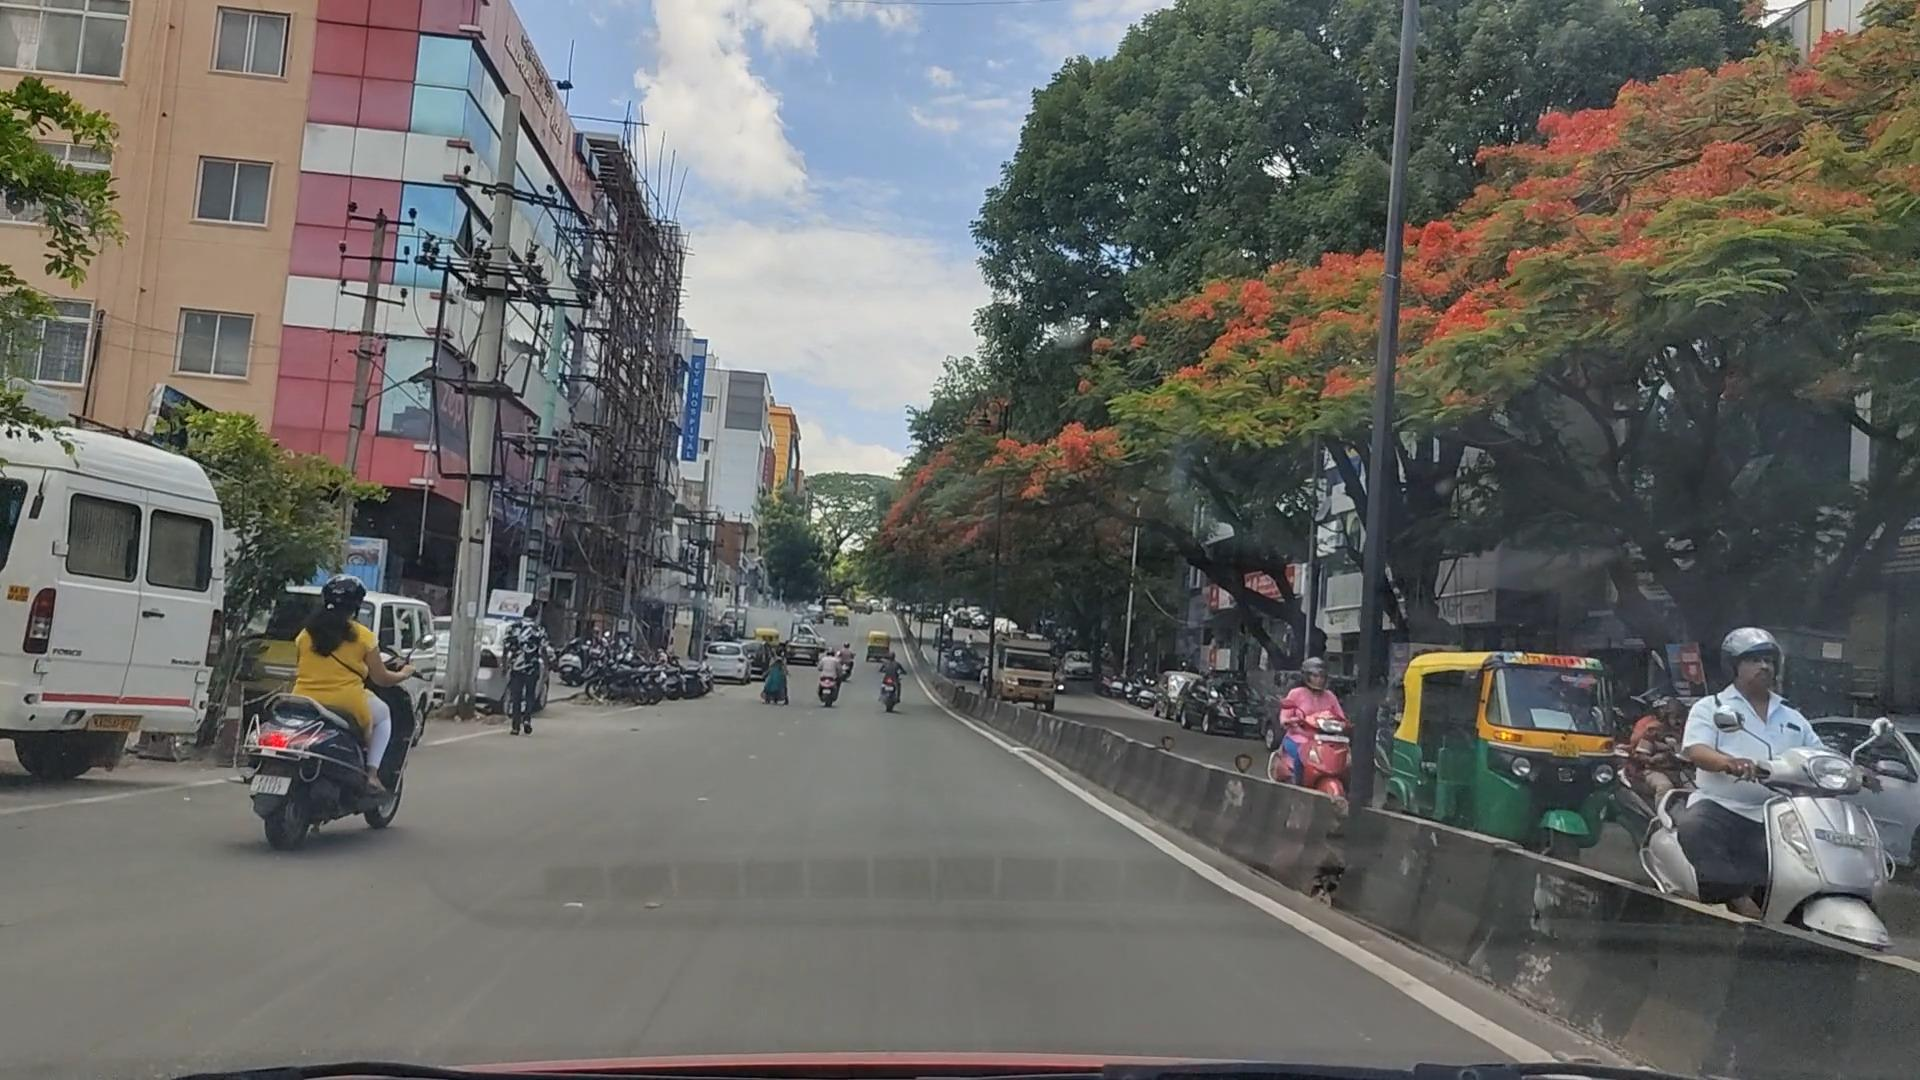LMV: (240, 555, 409, 848)
